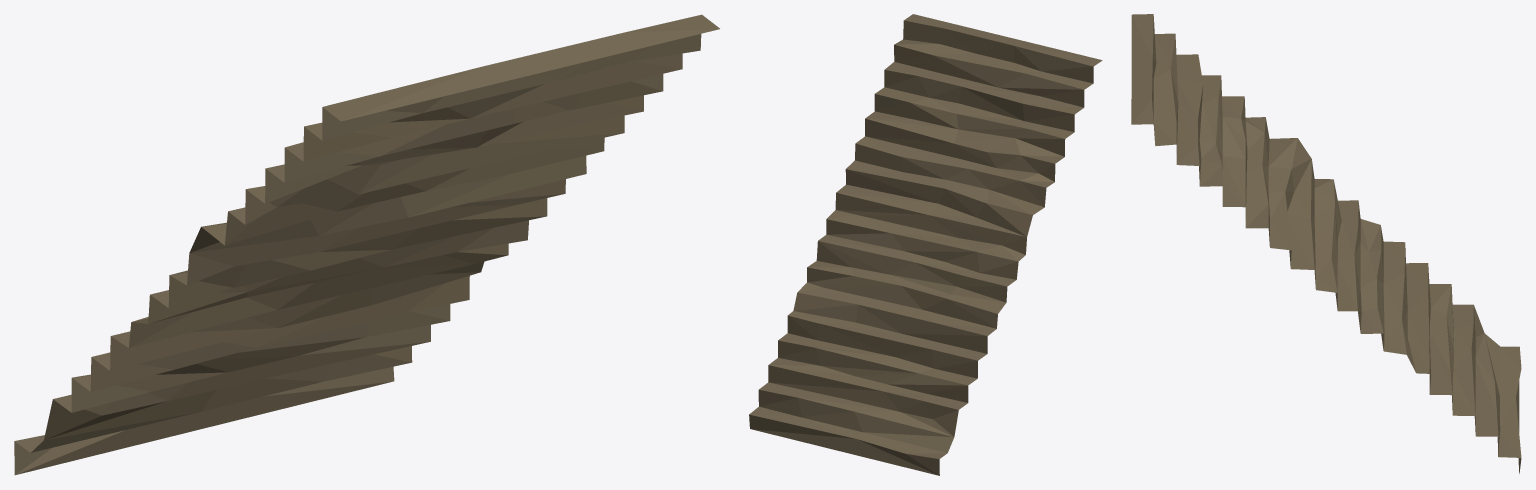
Rendered from Stairs_Large_low.fbx.
3 renders of one model, left to right at view 1: azimuth 30°, elevation 25°; view 2: azimuth 150°, elevation 25°; view 3: azimuth 270°, elevation 25°, orthographic. The views are drawn at different scales.
Visible parts, largest first — view 1: Stairs_Large_low; view 2: Stairs_Large_low; view 3: Stairs_Large_low.
Boxes of the visible parts, x1,y1,x2,y2 form: Stairs_Large_low: (14,14,719,475); Stairs_Large_low: (749,14,1102,475); Stairs_Large_low: (1131,14,1521,473).
Bounding box in the file's own units: 2.01 × 3 × 2.99.
